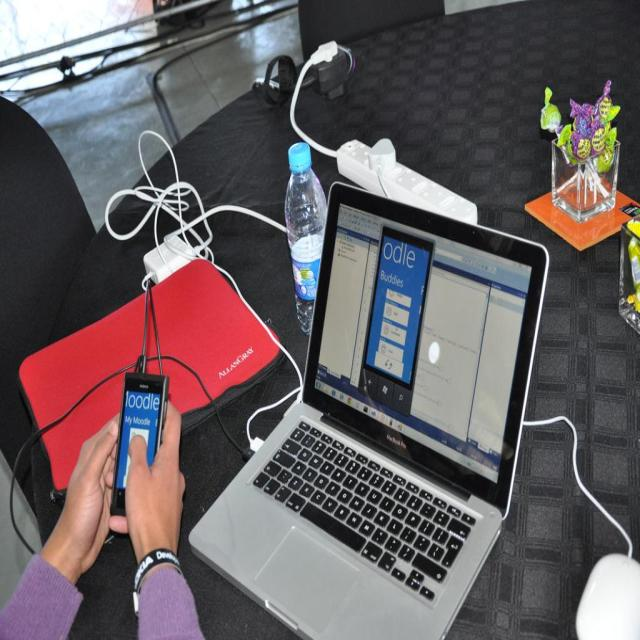bottle: (281, 138, 329, 326)
laptop: (230, 193, 552, 626)
mouse: (578, 544, 640, 640)
